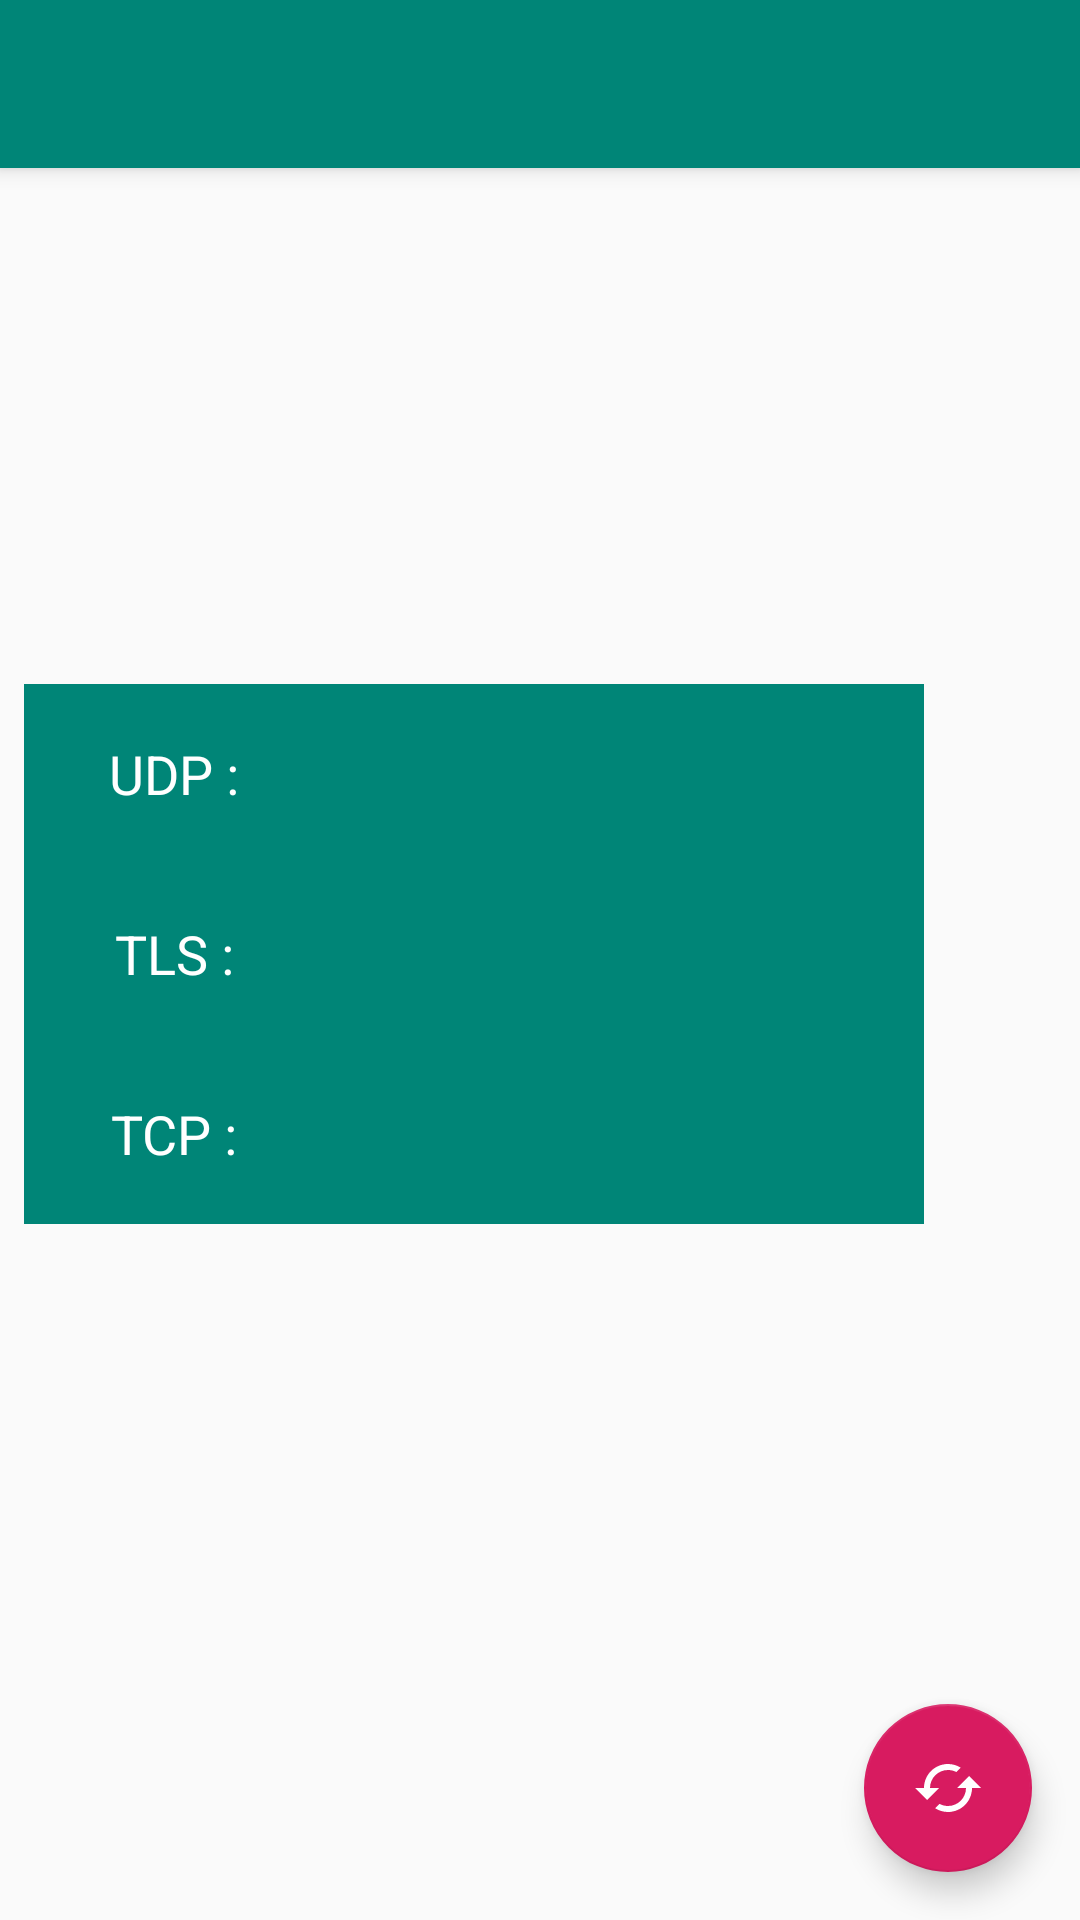

Named icons in this screenshot (1080w x 1920h) and their centers, [x,y]:
cached: [948,1788]
